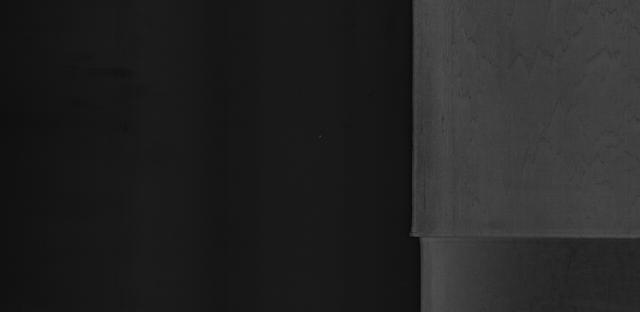welding_line: (401, 227, 640, 249)
